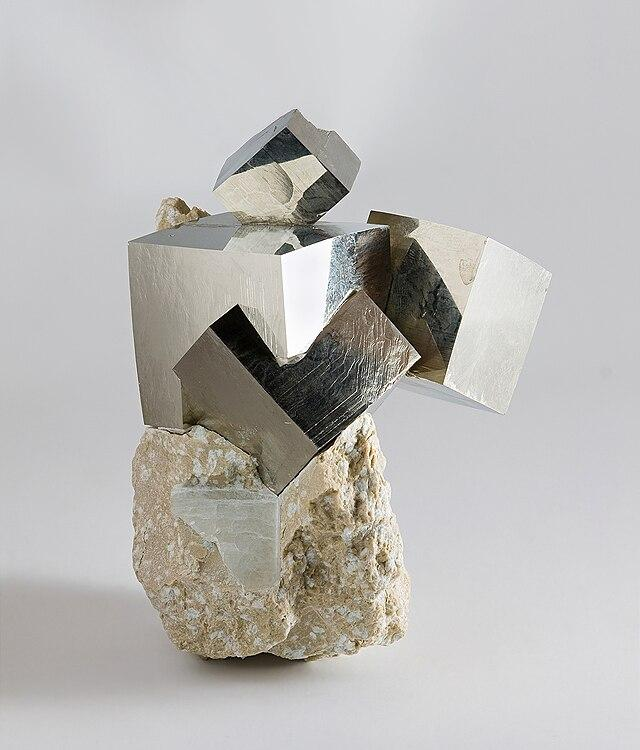pyrite: (121, 101, 561, 676)
